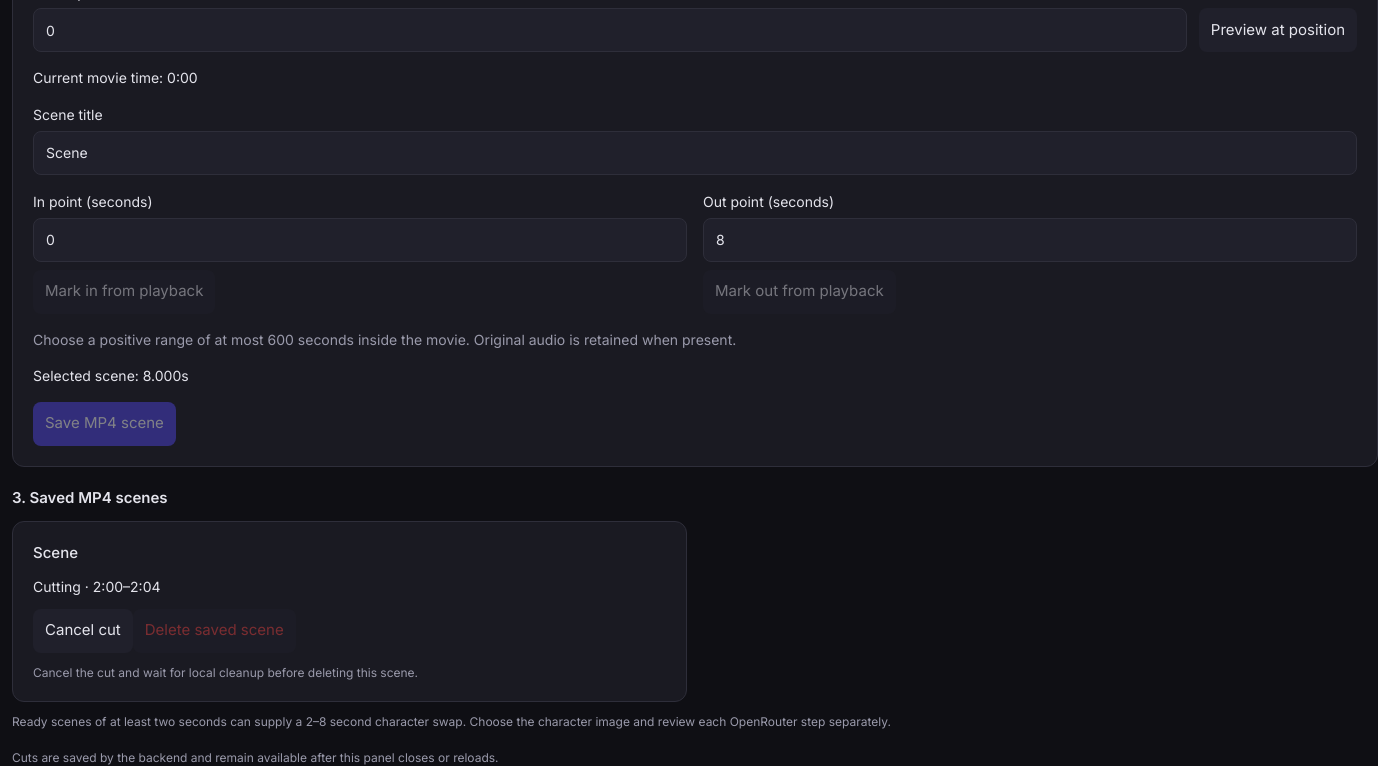
polls durable cut jobs and cancels the selected job without deleting its source
This screenshot has width=1378, height=766.
(page scrolled)
Click the button "Cancel cut": (83, 631) [33,609,133,653]
(page scrolled)
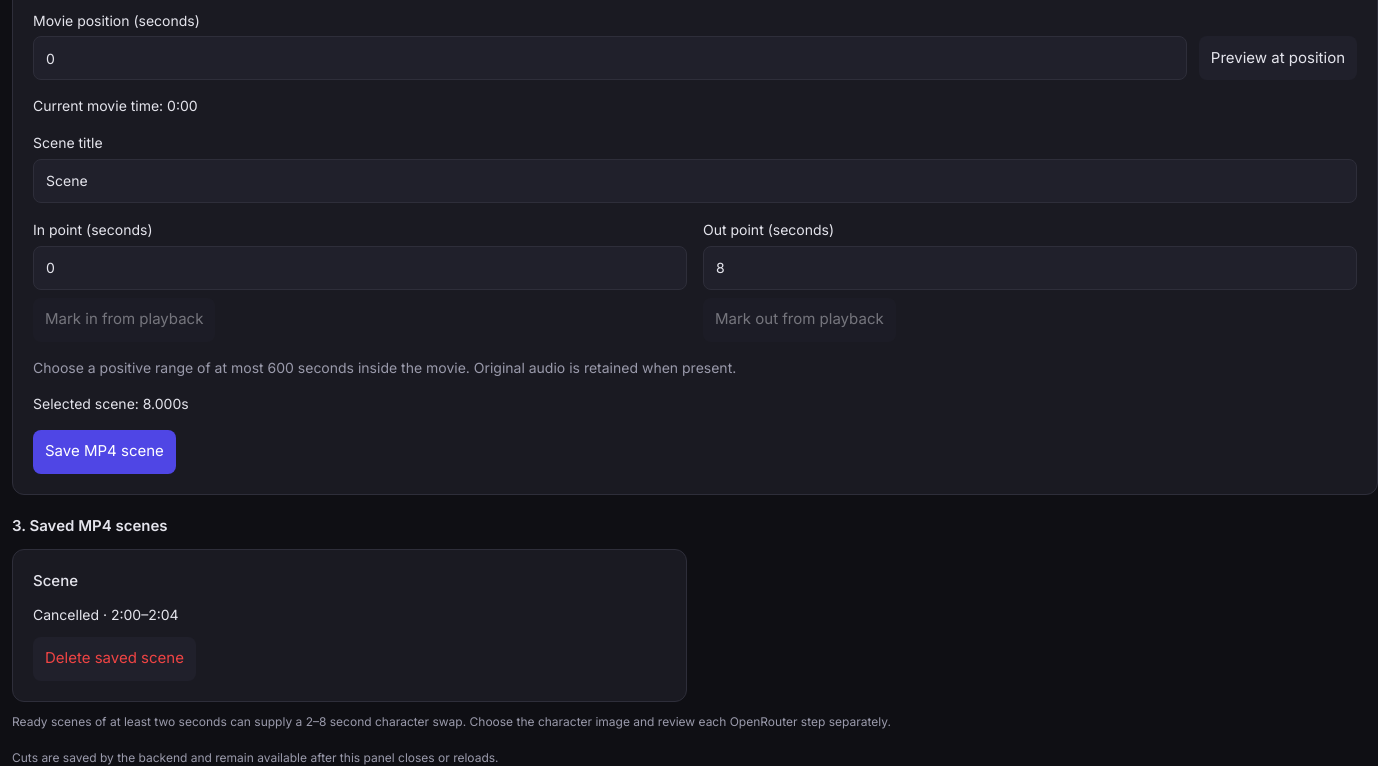
Expected: the text "Cancelled" is shown, [33,606,179,623]
